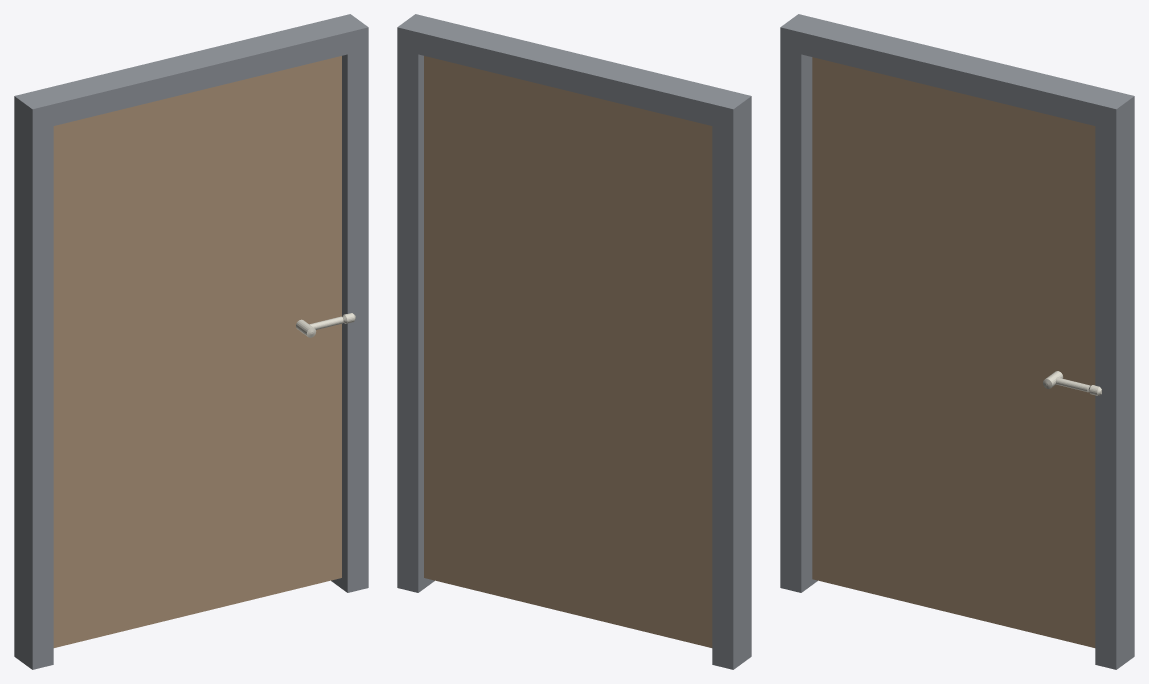
Rendered from lever_door.glb.
3 renders of one model, left to right at view 1: azimuth 30°, elevation 25°; view 2: azimuth 150°, elevation 25°; view 3: azimuth 330°, elevation 25°, orthographic.
Visible parts, largest first — view 1: leaf, frame, handle; view 2: leaf, frame; view 3: leaf, frame, handle.
Part boxes in pixels (<box>): leaf: <box>53,56,341,647</box>; frame: <box>14,14,368,669</box>; handle: <box>296,313,355,337</box>; leaf: <box>424,56,712,647</box>; frame: <box>397,14,751,669</box>; leaf: <box>812,57,1095,647</box>; frame: <box>780,14,1134,669</box>; handle: <box>1043,371,1101,395</box>.
Bounding box in the file's own units: 1.28 × 2.04 × 0.1625.
